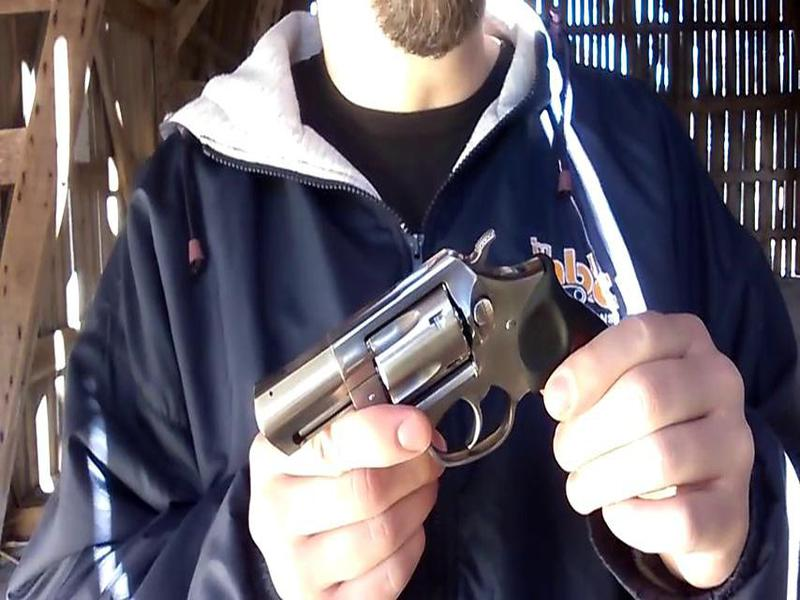Revolver: (217, 217, 643, 494)
